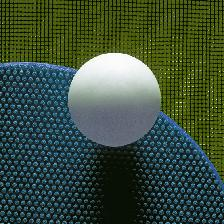WhiteBall: (67, 52, 159, 147)
